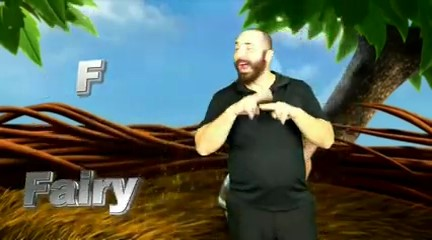F: (230, 88, 298, 132)
